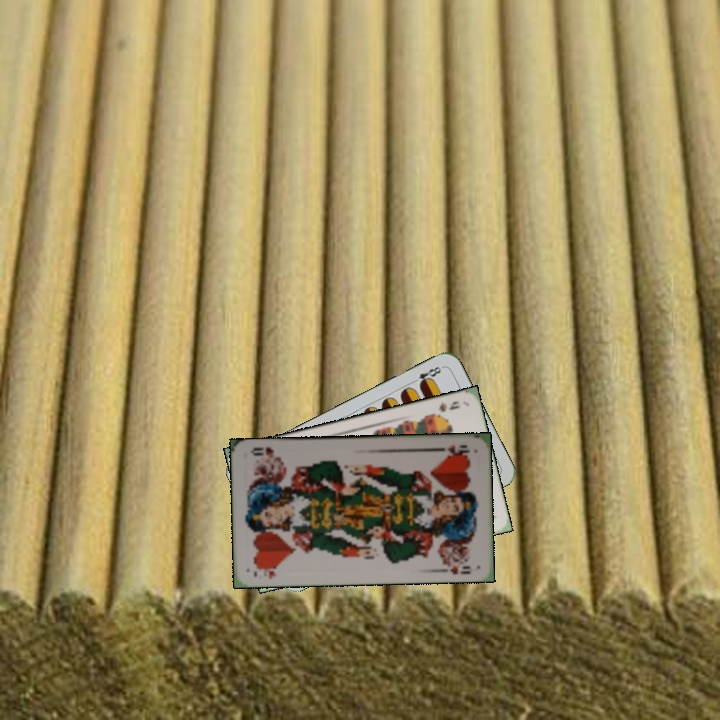E8: (407, 362, 445, 389)
HO: (434, 441, 472, 457), (250, 562, 281, 581)
S9: (425, 397, 463, 419)
